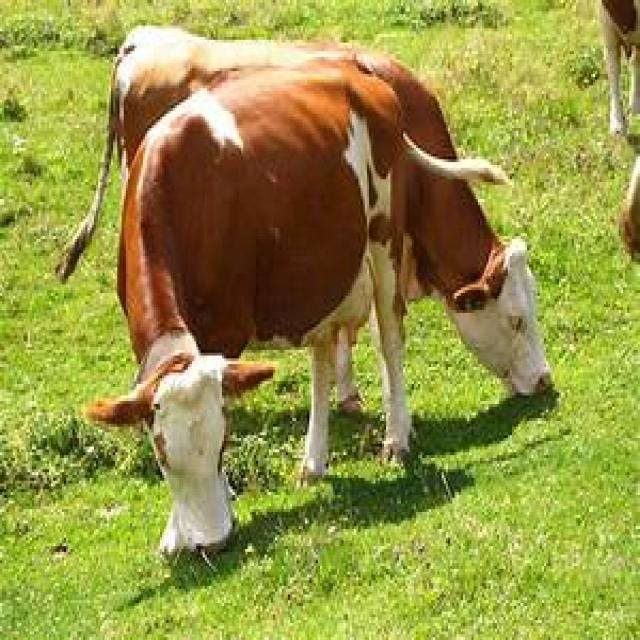cow: (87, 63, 407, 558), (58, 28, 503, 284), (393, 156, 553, 398)
